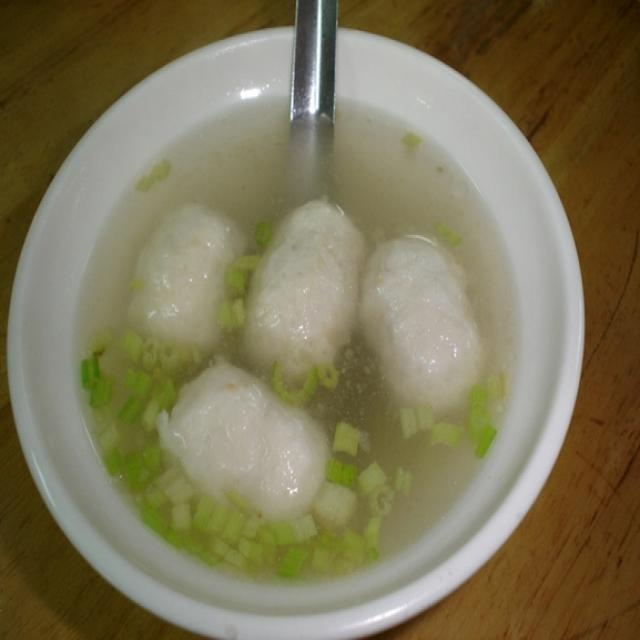熟制海鲜: (16, 37, 589, 631)
